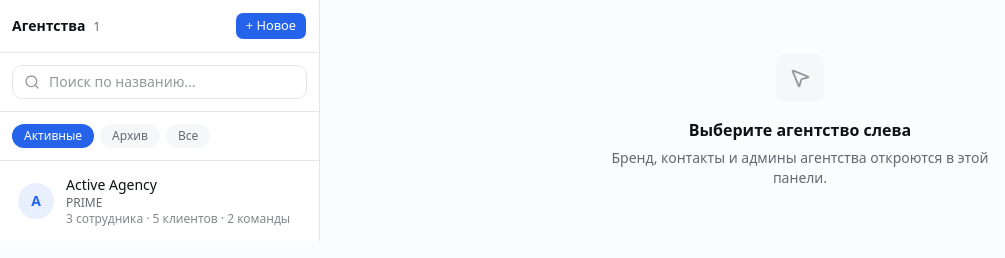
Test case: AgencyListPage › switching filter chip shows archived agencies
The width and height of the screenshot is (1005, 258).
Check: the text "Active Agency" is shown, box [66,175,157,194]
Click the radio button labelled "Архив".
click(130, 136)  # box [100,124,160,148]
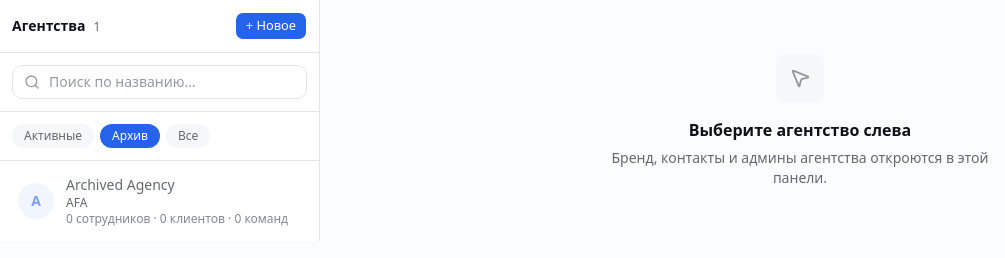
Check: the text "Archived Agency" is shown, box [66,175,175,194]
Check: the link "Active Agency" is gone
